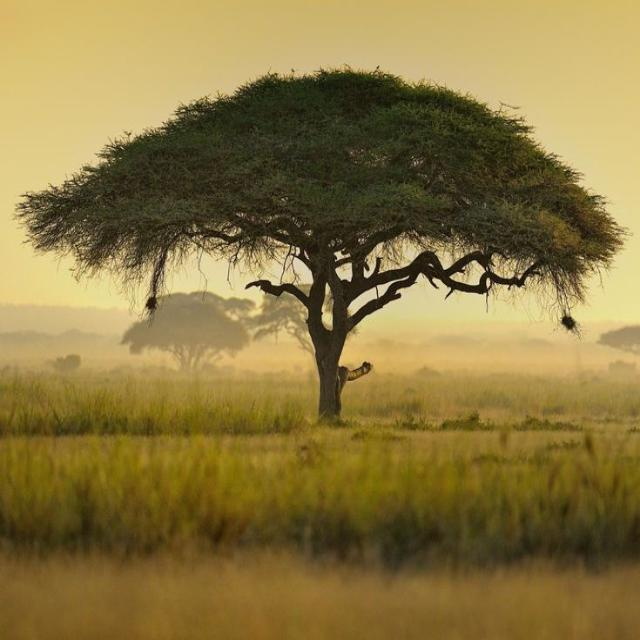Acacia: (51, 70, 604, 414)
